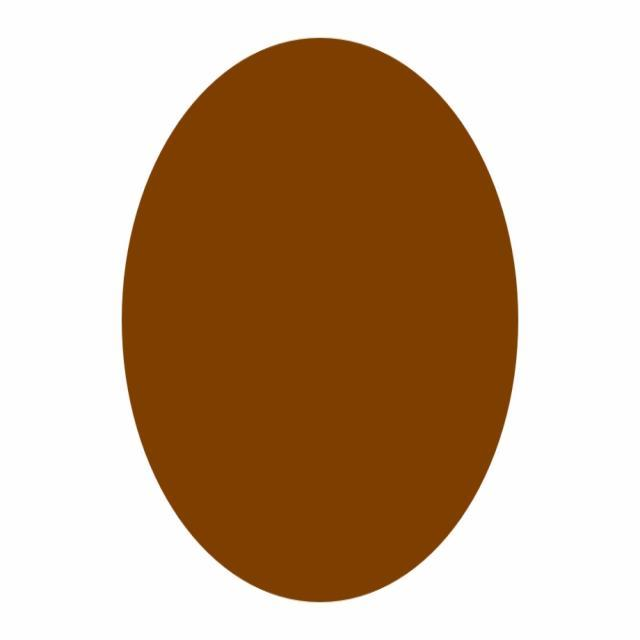Circle: (122, 39, 518, 601)
